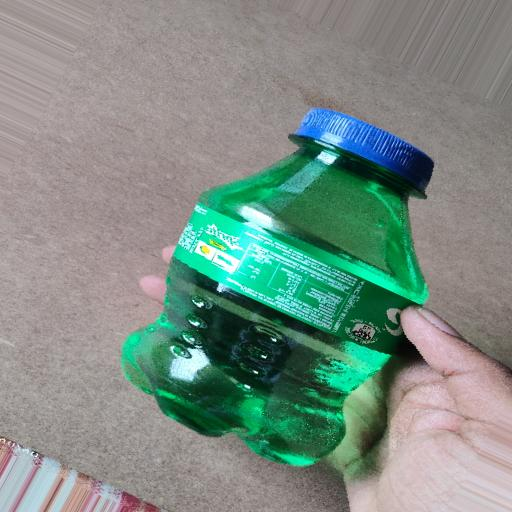Sprite: (97, 65, 450, 484)
